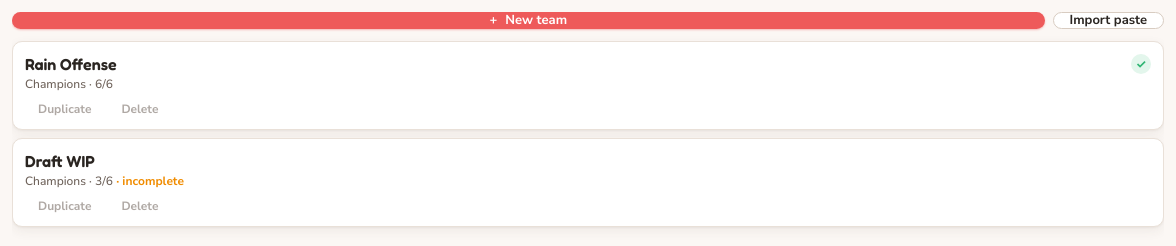
Test: TeamList › can cancel a pending delete
Click the button with test id "team-delete-t1".
click(140, 109)  # box [108, 101, 171, 117]
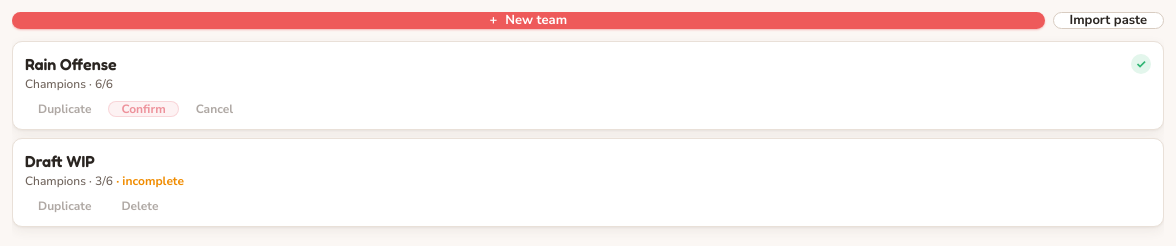
Click the button with test id "team-delete-cancel-t1".
click(214, 109)  # box [183, 101, 246, 117]
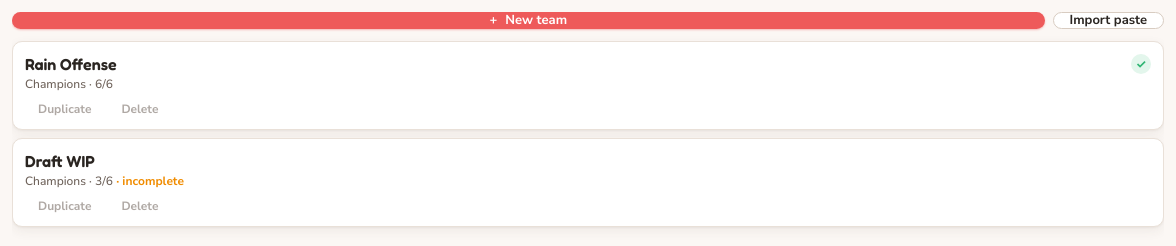
Now the button with test id "team-delete-t1" is shown, box [108, 101, 171, 117]
